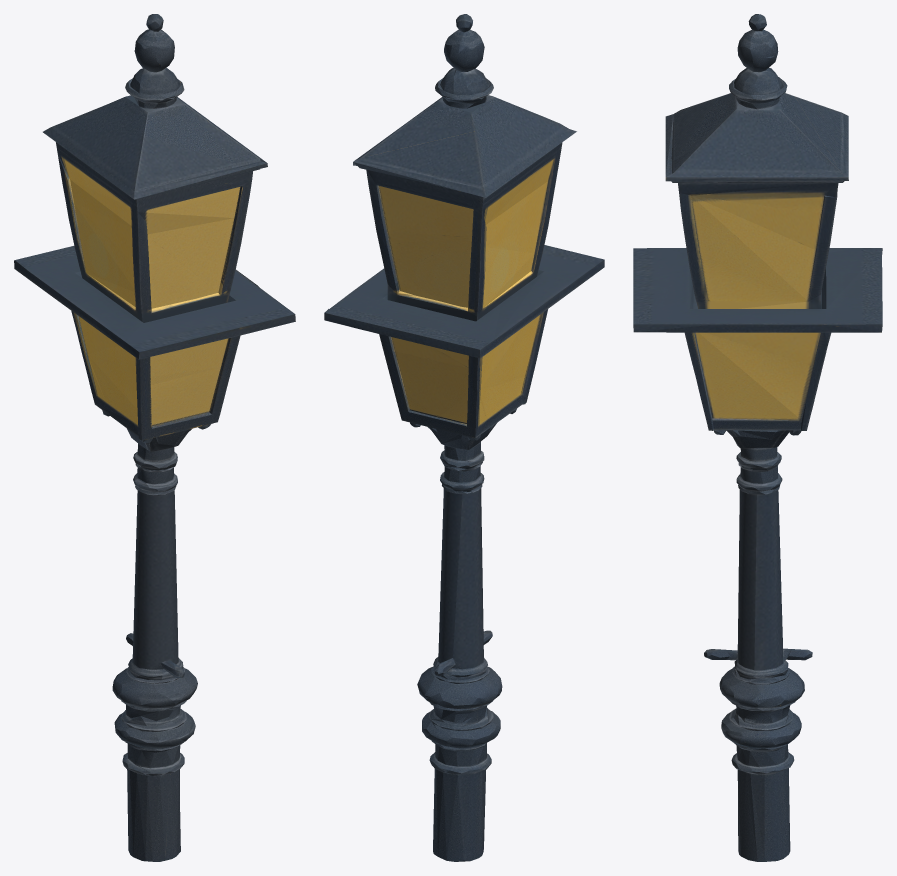
Rendered from street_lamp.glb.
3 renders of one model, left to right at view 1: azimuth 30°, elevation 25°; view 2: azimuth 150°, elevation 25°; view 3: azimuth 270°, elevation 25°, orthographic.
Size of the model in its own units: 0.3732 by 1.9 by 0.5138.
Materials: 1 (1 with a texture image).
